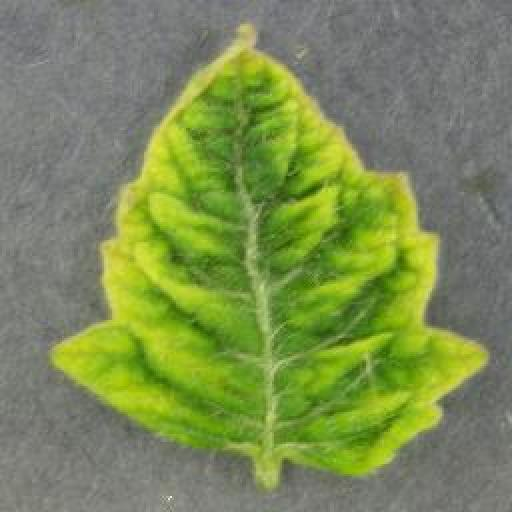Yellow Leaf Curl Virus: (52, 24, 494, 479)
